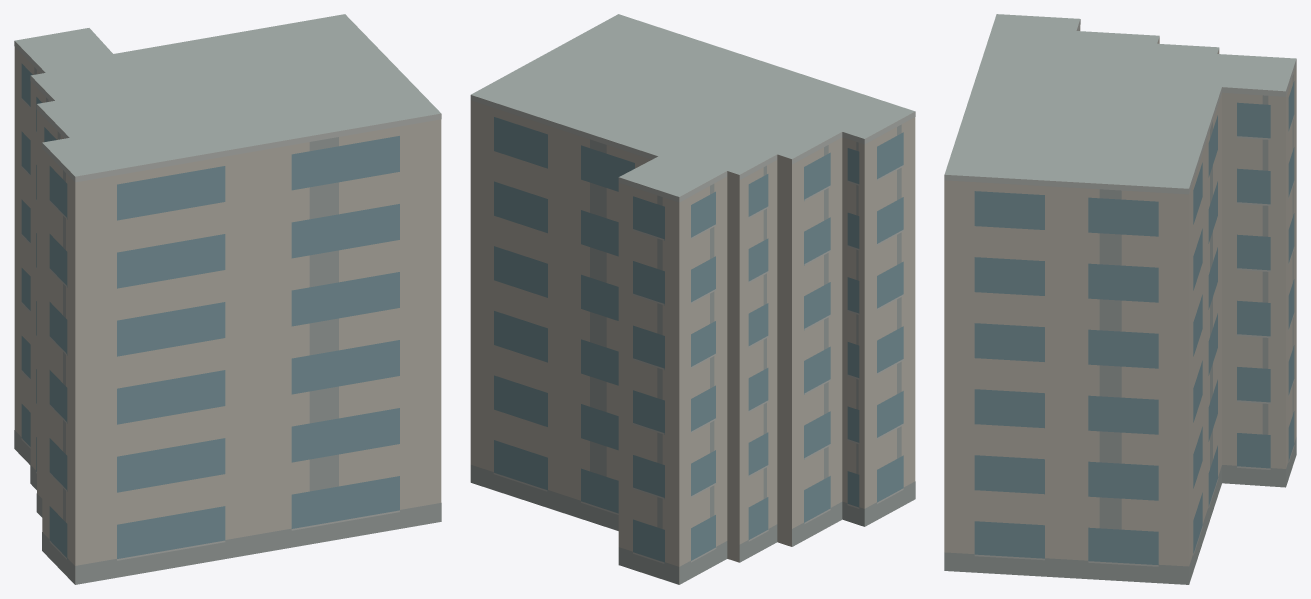
File: survey-upis-32872086.glb
The picture shows the model from 3 angles, left to right: view 1: azimuth 30°, elevation 25°; view 2: azimuth 150°, elevation 25°; view 3: azimuth 270°, elevation 25°; orthographic projection. The views are drawn at different scales.
Parts seen in each view (by area): view 1: survey-upis-32872086.tmp; view 2: survey-upis-32872086.tmp; view 3: survey-upis-32872086.tmp.
Boxes of the visible parts, x1,y1,x2,y2 form: survey-upis-32872086.tmp: (14, 14, 441, 584); survey-upis-32872086.tmp: (470, 14, 915, 584); survey-upis-32872086.tmp: (944, 14, 1296, 584).
Size of the model in its own units: 16.28 by 17.2 by 13.87.
